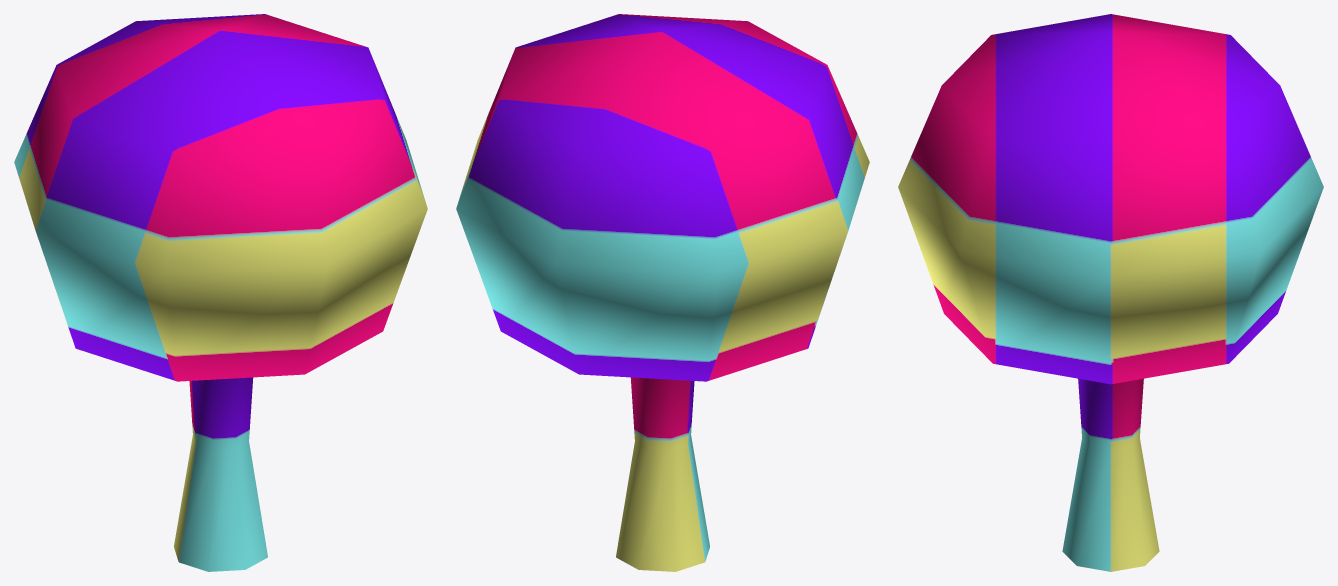
The model's file is Tree.fbx.
3 views of the same model, side by side, from view 1: azimuth 30°, elevation 25°; view 2: azimuth 150°, elevation 25°; view 3: azimuth 270°, elevation 25° (orthographic).
Parts seen in each view (by area): view 1: Tree:Mesh; view 2: Tree:Mesh; view 3: Tree:Mesh.
Boxes of the visible parts, <box> form: Tree:Mesh: <box>14,14,427,571</box>; Tree:Mesh: <box>456,14,869,571</box>; Tree:Mesh: <box>898,14,1323,571</box>.
Bounding box in the file's own units: 17.89 × 24.02 × 17.89.
